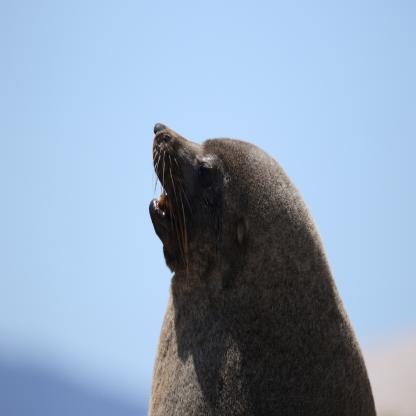face: (148, 121, 229, 246)
